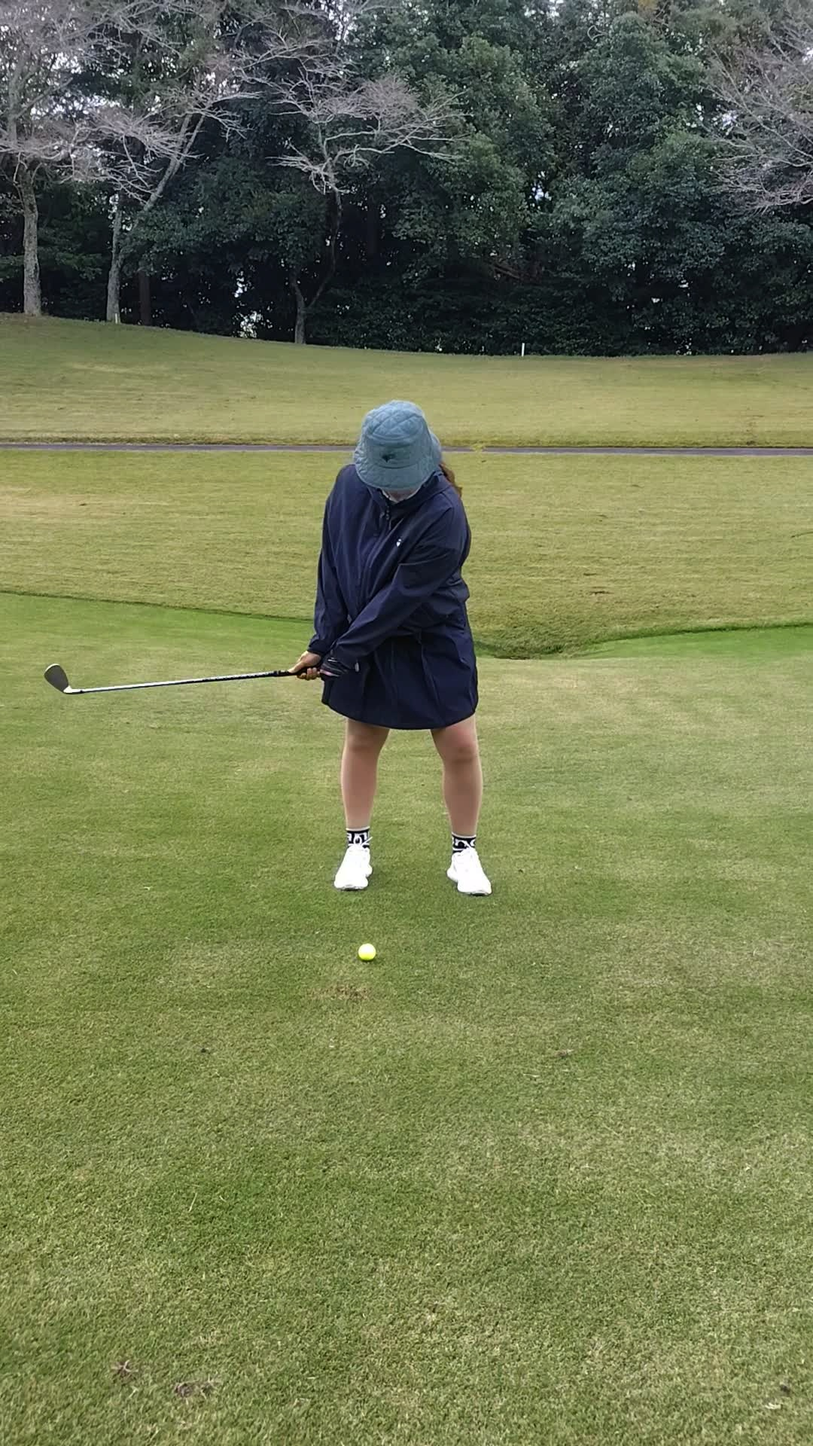clubhead: (10, 603, 112, 754)
